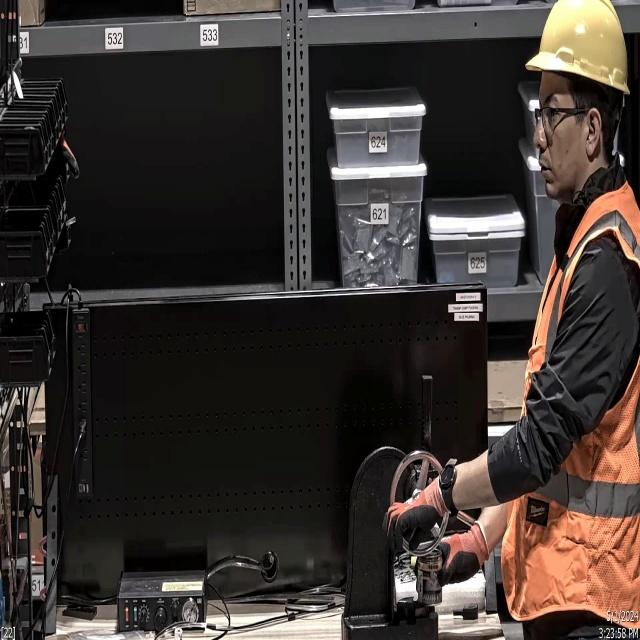gloves: (383, 454, 462, 561)
